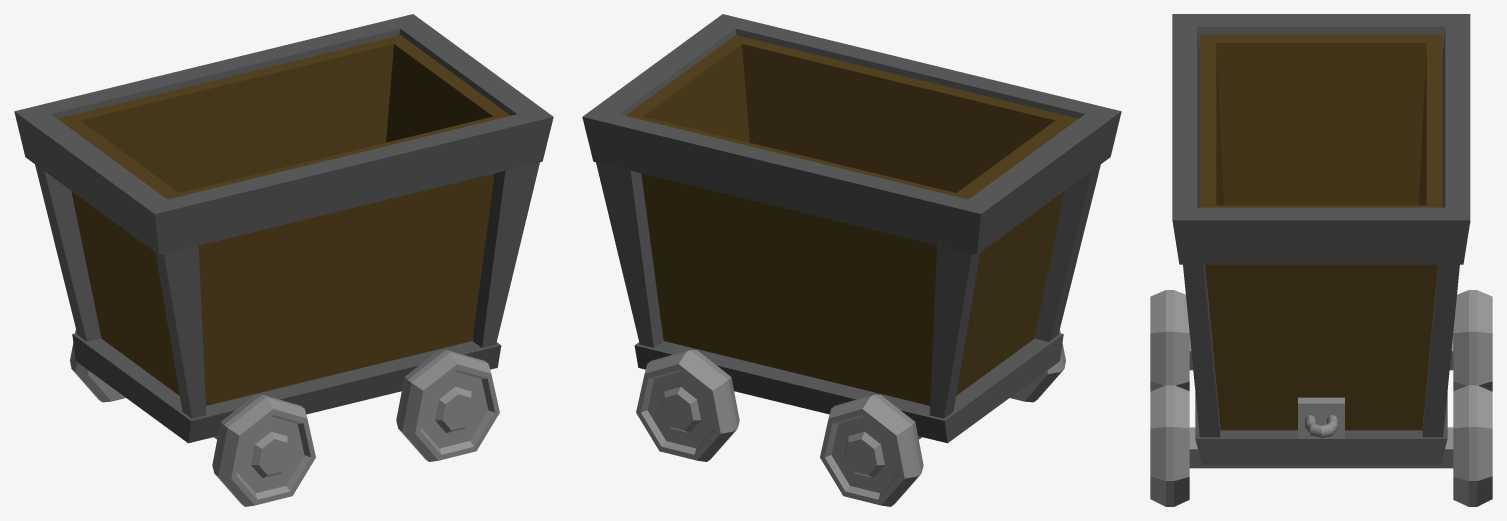
Rendered from minecart.fbx.
3 views of the same model, side by side, from view 1: azimuth 30°, elevation 25°; view 2: azimuth 150°, elevation 25°; view 3: azimuth 270°, elevation 25° (orthographic). The views are drawn at different scales.
Visible parts, largest first — view 1: prop_minecart_body_frame_geo_1; view 2: prop_minecart_body_frame_geo_1; view 3: prop_minecart_body_frame_geo_1.
Boxes of the visible parts, x1,y1,x2,y2 form: prop_minecart_body_frame_geo_1: (14, 14, 553, 506); prop_minecart_body_frame_geo_1: (582, 14, 1121, 506); prop_minecart_body_frame_geo_1: (1150, 14, 1492, 506).
Size of the model in its own units: 118 by 87.9 by 82.41.
